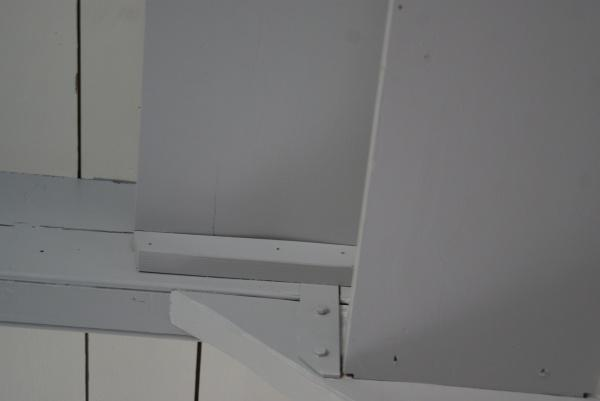crack: (213, 192, 216, 236)
